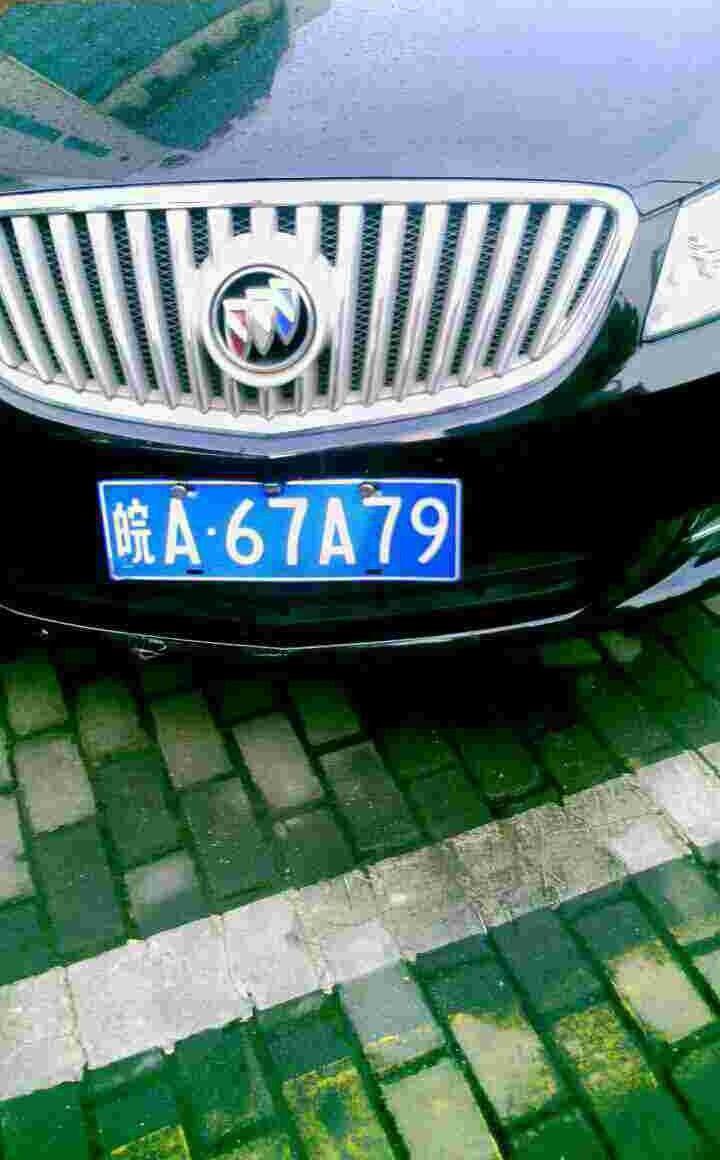license_plate: (96, 468, 464, 581)
